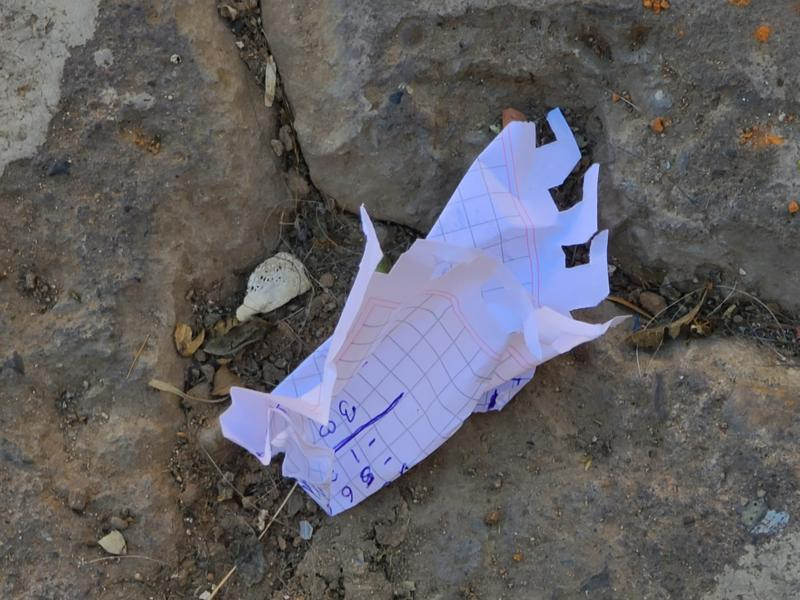papel: (216, 112, 612, 518)
